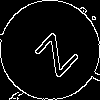Z: (25, 25, 80, 78)
